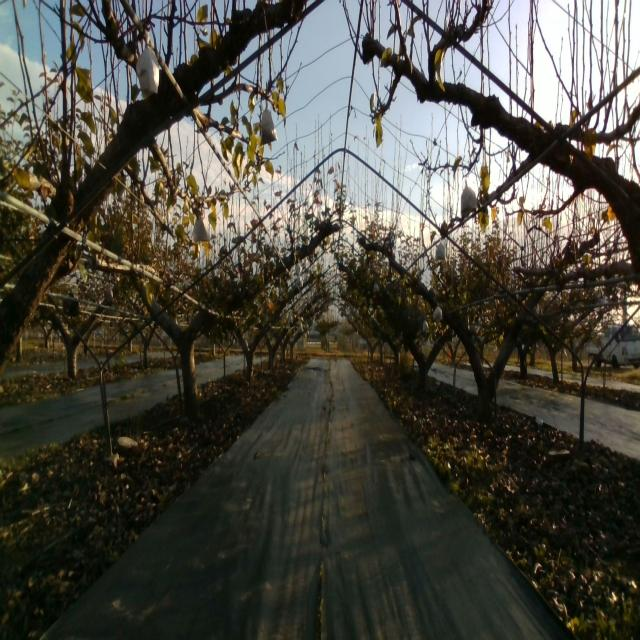pearbags: (135, 28, 160, 100), (259, 100, 278, 146), (461, 179, 478, 215), (191, 215, 211, 243), (435, 240, 447, 262)
